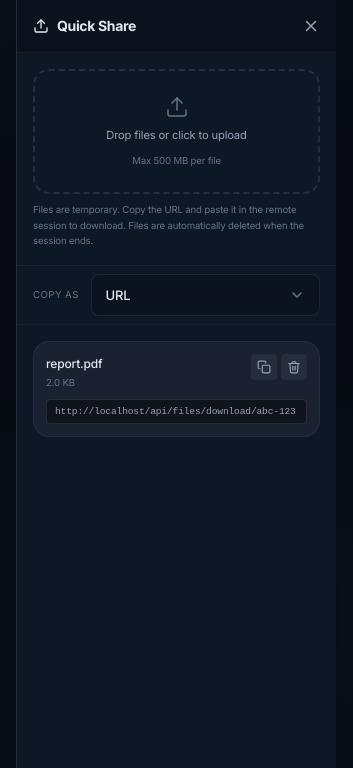
QuickShare › shows error on delete failure
Expected: the text "report.pdf" is shown, top-left (46, 356), bottom-right (102, 371)
Click the button titled "Delete file". click: (294, 367)
box: top-left (281, 354), bottom-right (307, 380)
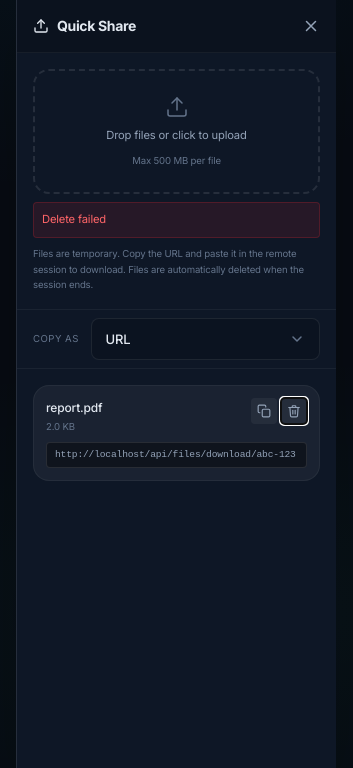
Result: the text "Delete failed" is shown at top-left (33, 202), bottom-right (320, 238)
